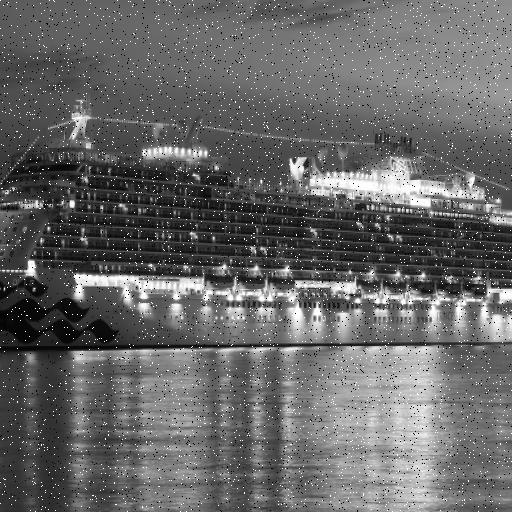cruises: (1, 92, 512, 356)
